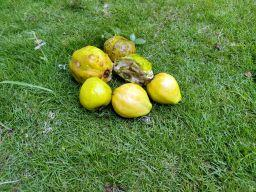guava: (113, 82, 153, 120), (71, 48, 114, 82), (113, 52, 154, 87), (149, 68, 184, 106), (80, 75, 113, 111), (102, 32, 138, 62)
